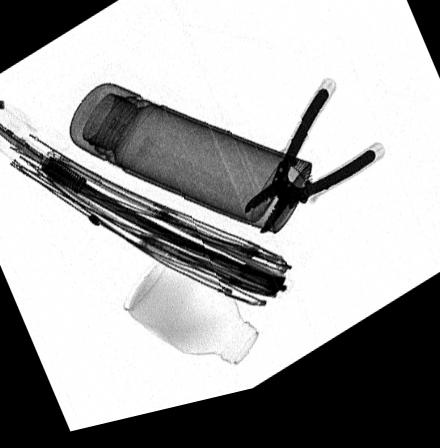Pliers: (242, 103, 377, 247)
